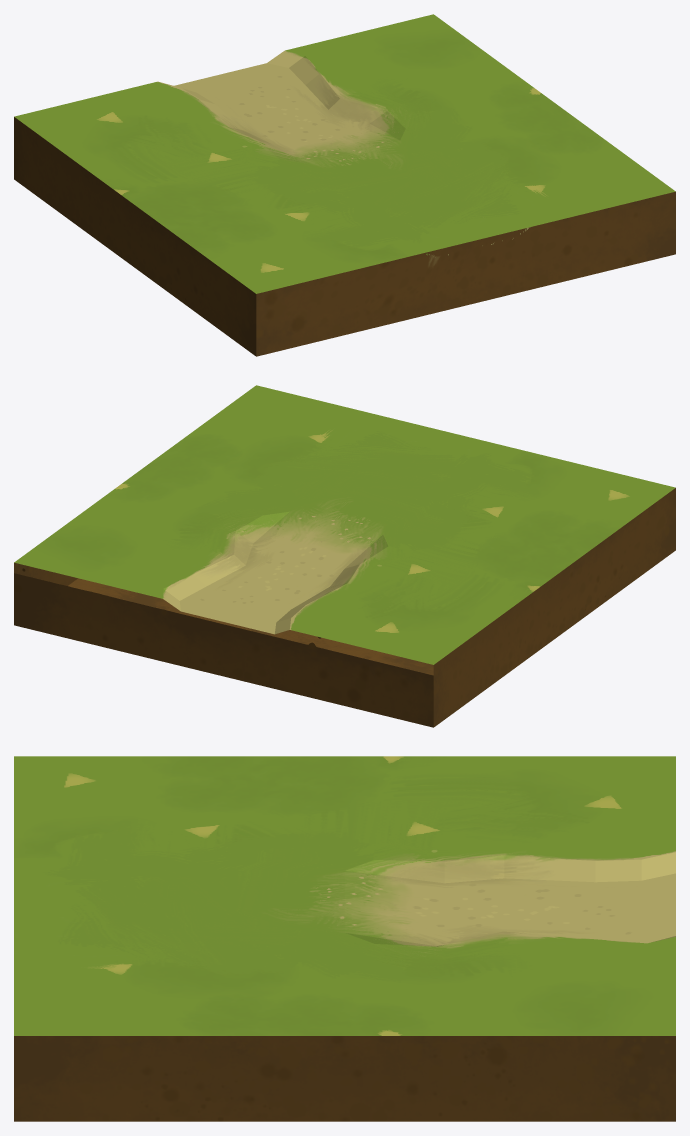
The model's file is pathEnd.fbx.
3 views of the same model, one above another, from view 1: azimuth 30°, elevation 25°; view 2: azimuth 150°, elevation 25°; view 3: azimuth 270°, elevation 25° (orthographic). The views are drawn at different scales.
Parts seen in each view (by area): view 1: path end; view 2: path end; view 3: path end.
Boxes of the visible parts, x1,y1,x2,y2 form: path end: [14, 14, 675, 356]; path end: [14, 385, 675, 727]; path end: [14, 756, 675, 1121].
Size of the model in its own units: 200 by 28.57 by 200.
